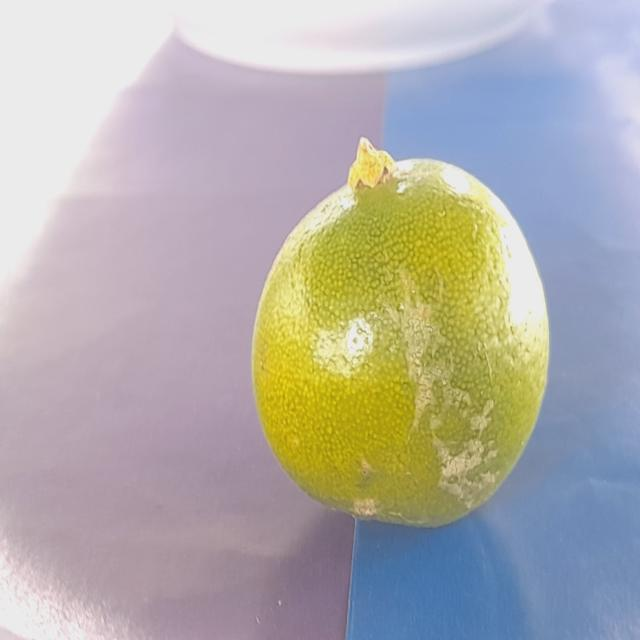thrips: (223, 113, 580, 545)
